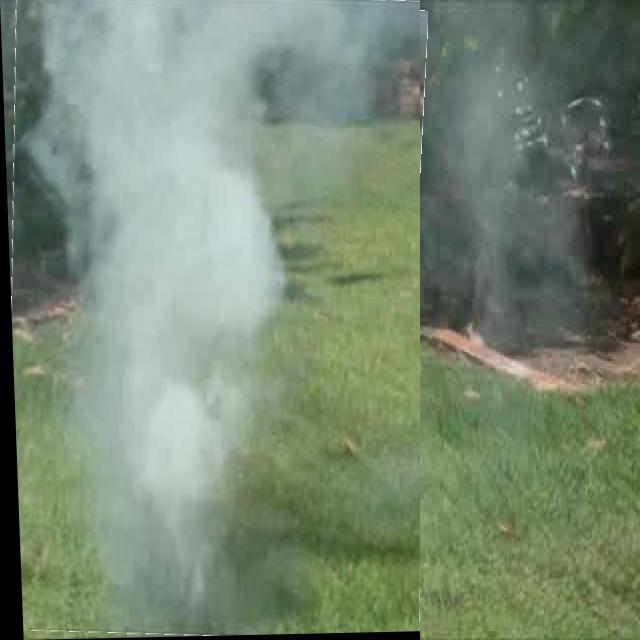smoke: (22, 4, 395, 626)
